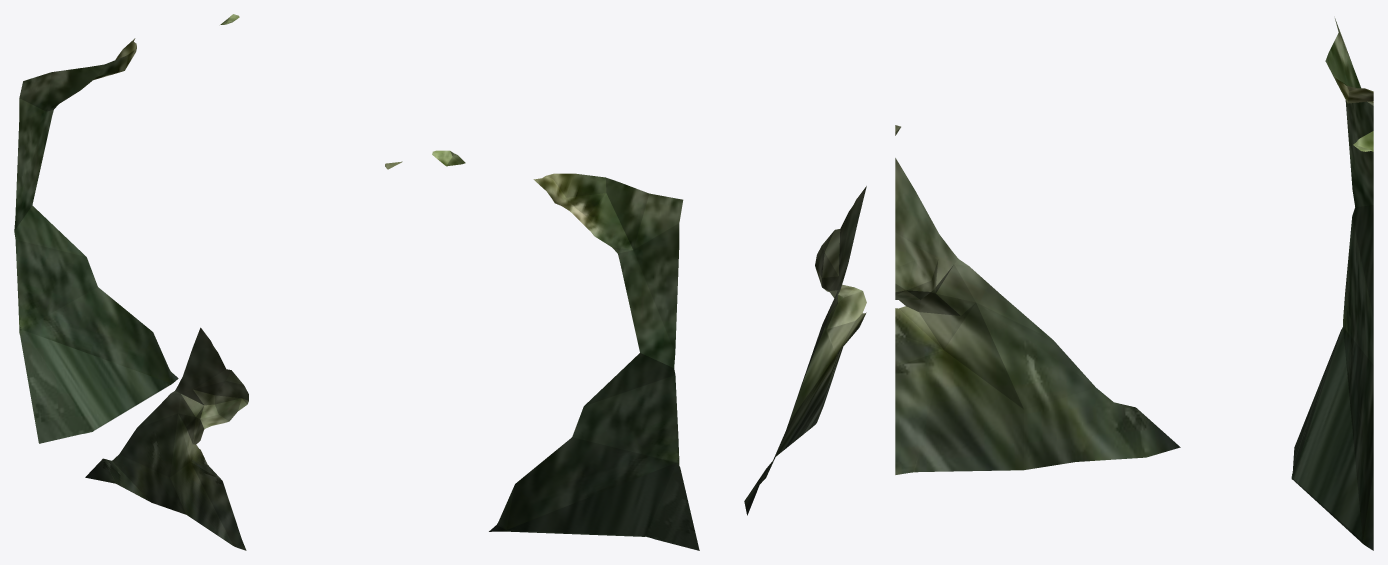
3 views of the same model, side by side, from view 1: azimuth 30°, elevation 25°; view 2: azimuth 150°, elevation 25°; view 3: azimuth 270°, elevation 25° (orthographic). The views are drawn at different scales.
Bounding box in the file's own units: 2.01 × 2.95 × 2.95.
2 materials, 2 textured.
